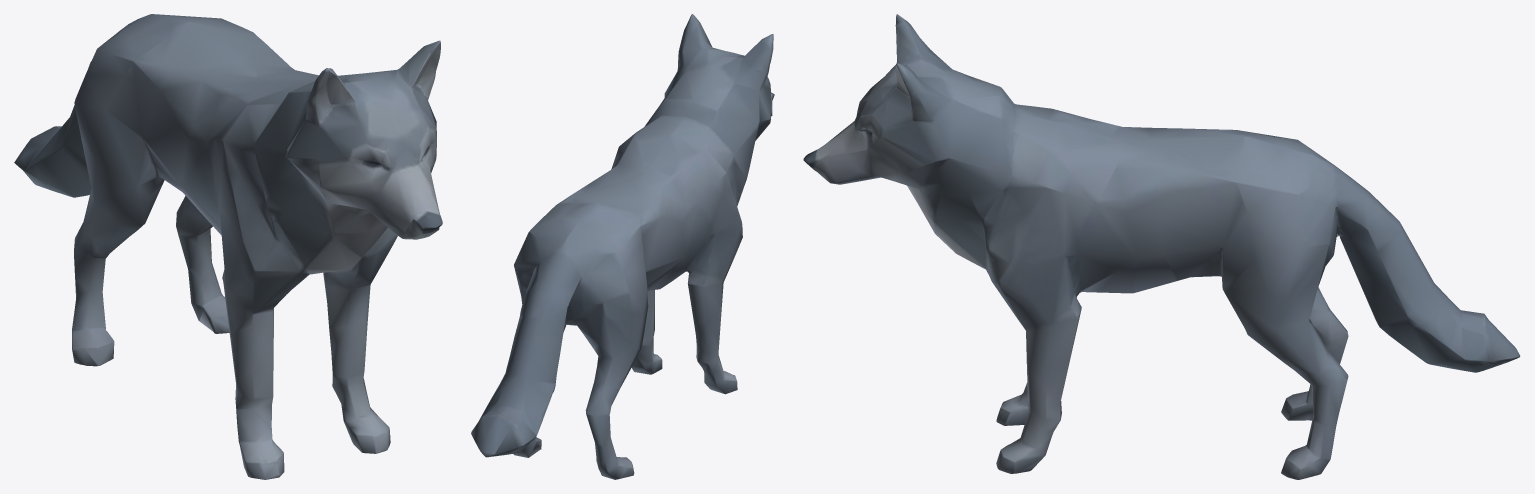
The model's file is wolf.glb.
3 renders of one model, left to right at view 1: azimuth 30°, elevation 25°; view 2: azimuth 150°, elevation 25°; view 3: azimuth 270°, elevation 25°, orthographic. The views are drawn at different scales.
Visible parts, largest first — view 1: Mesh_0; view 2: Mesh_0; view 3: Mesh_0.
Part boxes in pixels (<box>): Mesh_0: <box>14,14,442,479</box>; Mesh_0: <box>471,14,774,479</box>; Mesh_0: <box>803,14,1520,479</box>.
Size of the model in its own units: 0.4664 by 1.19 by 1.91.
1 material, 1 textured.
